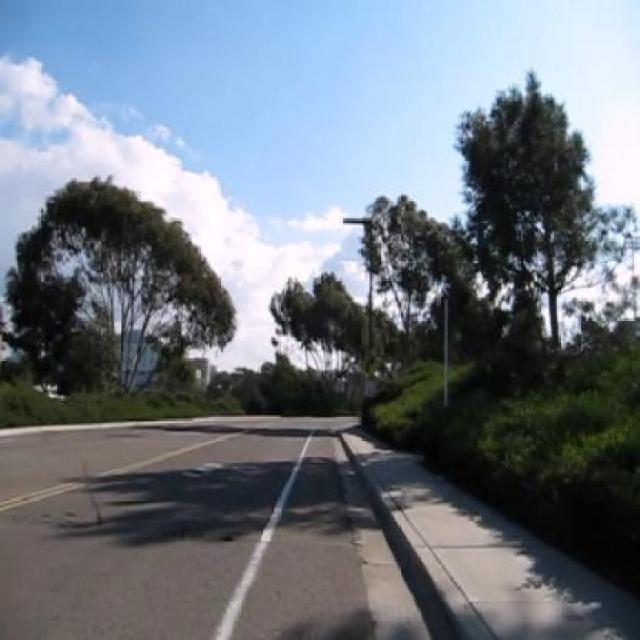speedLimit35: (363, 377, 377, 398)
